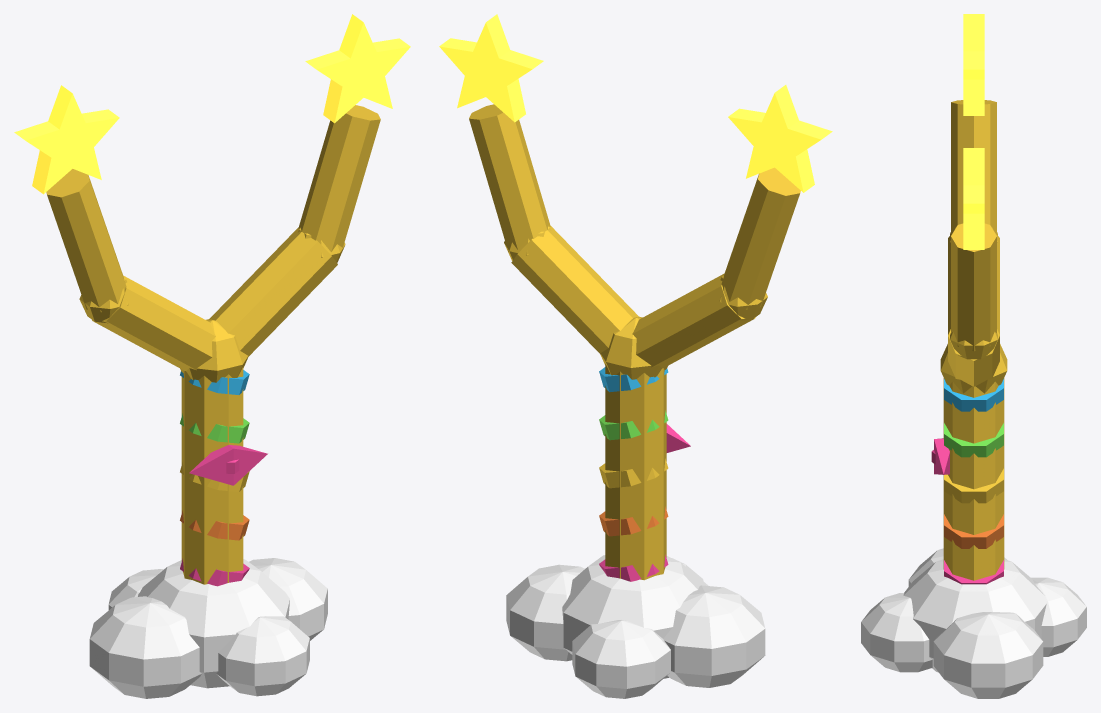
The model's file is slingshot_6.fbx.
3 renders of one model, left to right at view 1: azimuth 30°, elevation 25°; view 2: azimuth 150°, elevation 25°; view 3: azimuth 270°, elevation 25°, orthographic. The views are drawn at different scales.
Parts seen in each view (by area): view 1: Frame, Base, Tips, Stripes, Bow; view 2: Frame, Base, Tips, Stripes; view 3: Base, Frame, Stripes, Tips, Bow.
Part boxes in pixels (x1,y1,x2,y2): Frame: (46,105,380,584); Base: (89,558,327,698); Tips: (14,14,410,194); Stripes: (180,370,249,586); Bow: (189,445,267,485); Frame: (469,104,800,580); Base: (506,555,765,698); Tips: (439,14,832,192); Stripes: (599,367,668,581); Base: (861,548,1086,698); Frame: (940,100,1007,580); Stripes: (944,379,1003,584); Tips: (963,14,984,249); Bow: (931,438,949,474).
Bounding box in the file's own units: 5.83 × 9.03 × 3.13.
